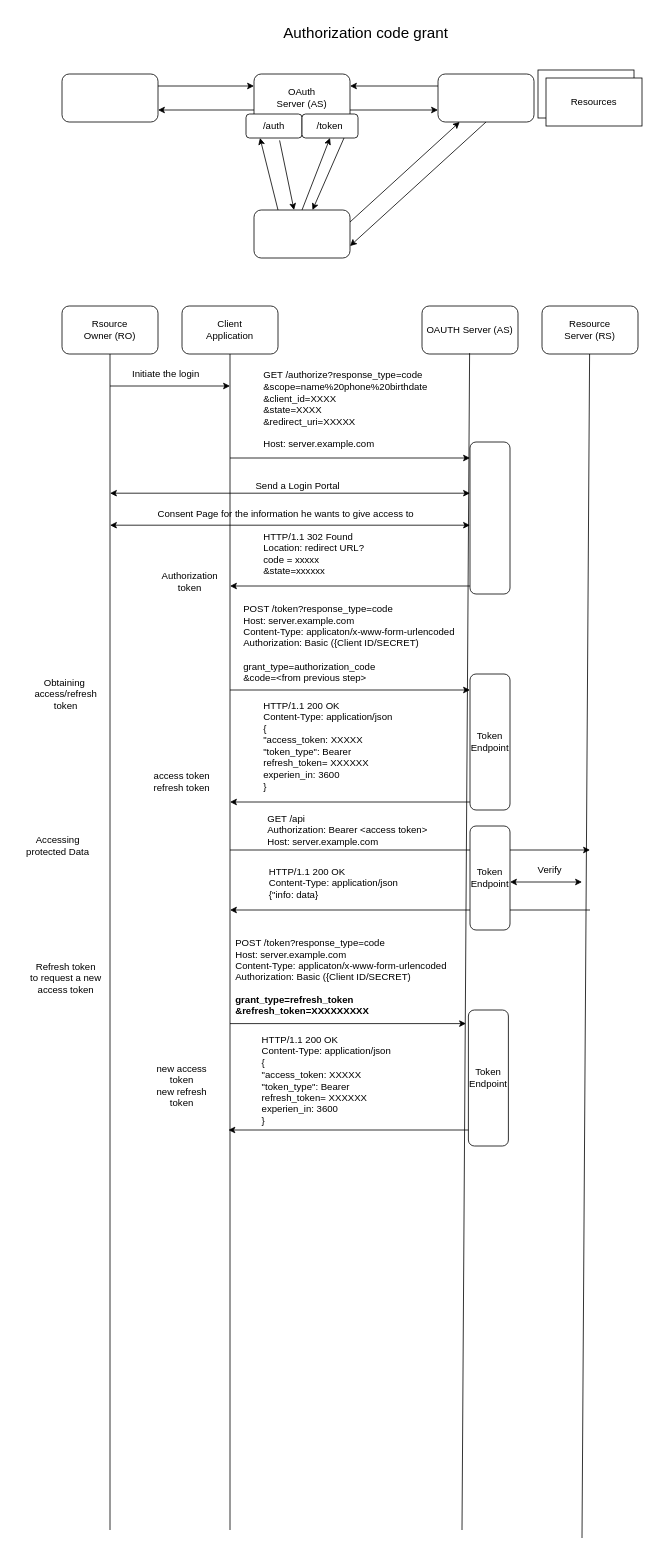
Image size: 656x1553. Some labels were removed from this diagram. The shapes that lost their labels are listed below. From the top down, each one's centre as x and y in pixels, then its label:
At [109,97]: "Rsource Owner".
At [485,97]: "Rsource Server".
At [301,233]: "Client".
At [489,517]: "Auth Endpoint".
